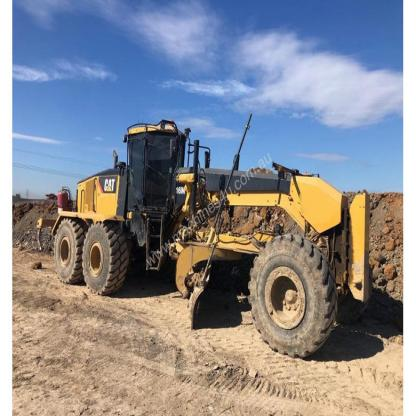bull_dozer/loader/grader: (29, 114, 386, 366)
